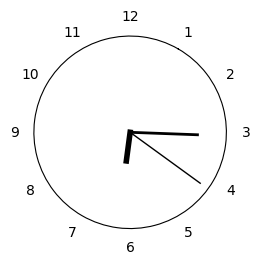12: (121, 9, 139, 23)
circle: (33, 36, 227, 229)
hours: (124, 129, 133, 164)
minutes: (133, 130, 199, 137)
seconds: (134, 136, 202, 184)
